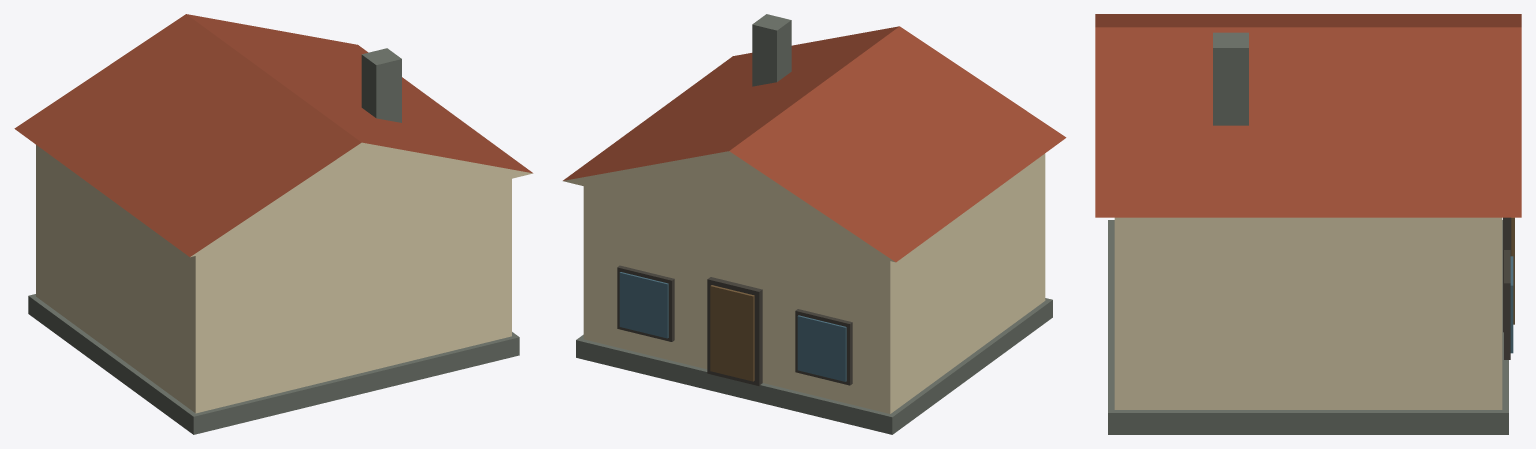
File: house_rural_lod1.obj
3 views of the same model, side by side, from view 1: azimuth 30°, elevation 25°; view 2: azimuth 150°, elevation 25°; view 3: azimuth 270°, elevation 25° (orthographic). The views are drawn at different scales.
Parts seen in each view (by area): view 1: house_rural_lod1; view 2: house_rural_lod1; view 3: house_rural_lod1.
Part boxes in pixels (box(x1,y1,x2,y2)): house_rural_lod1: box(14, 14, 533, 434); house_rural_lod1: box(563, 14, 1066, 434); house_rural_lod1: box(1095, 14, 1521, 434).
Bounding box in the file's own units: 8.7 × 6.84 × 7.7.
1 material, 1 textured.
